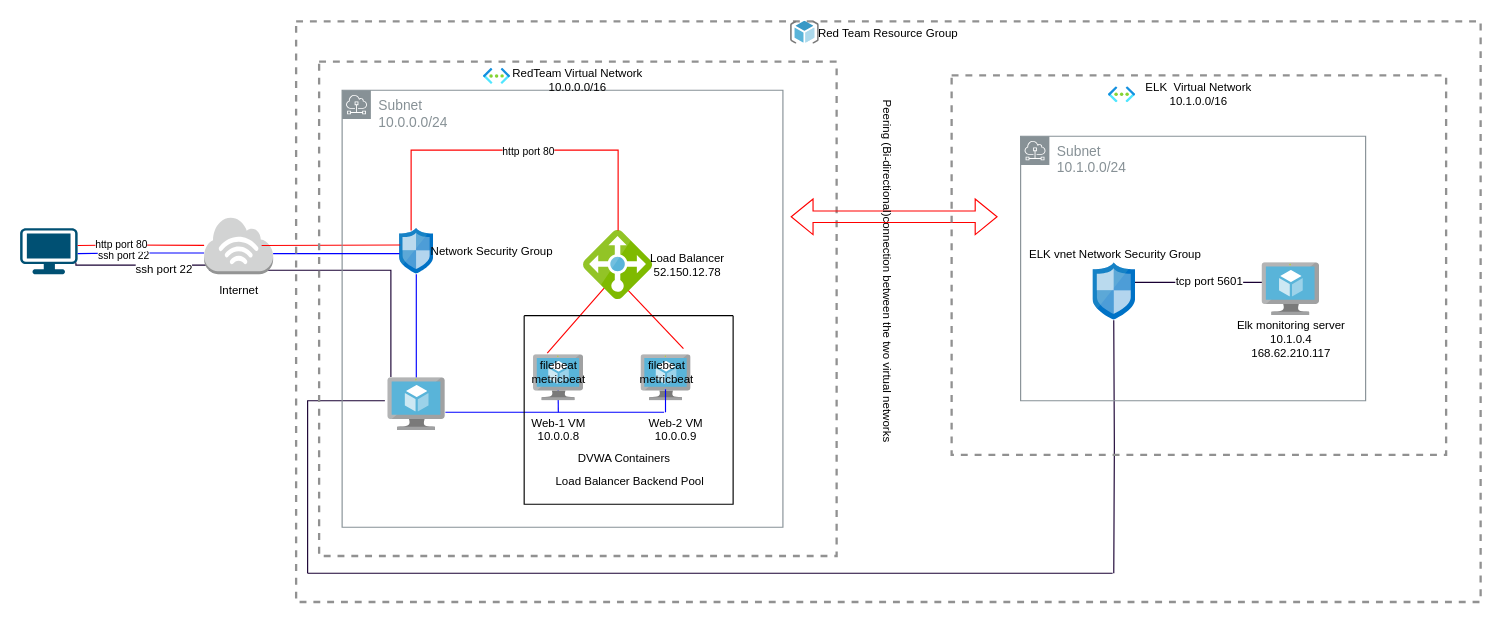
Some shapes in this 1502 by 622 pixel diagram are drawn without their labels. The centre of each missing label's shape, as x and y in pixels:
Jumpbox Provisioner Ansible 20.121.217.236 10.0.0.7: (x=416, y=403)
workstation: (x=48, y=251)
